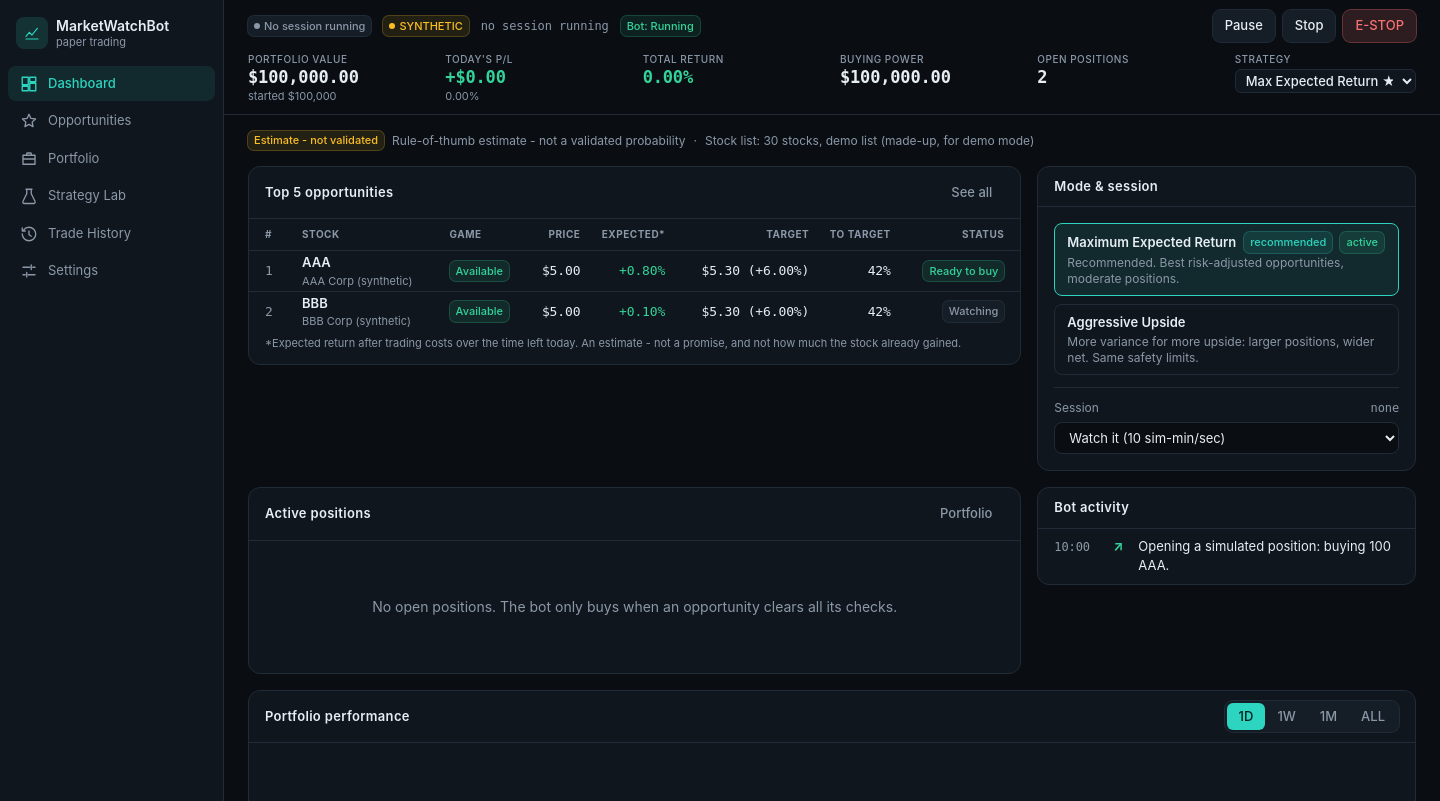
Test: dashboard › switches mode after confirmation and tells you what happens to open positions
The width and height of the screenshot is (1440, 801).
Click the radio button labelled "Aggressive Upside". click: point(1227, 340)
box: [1054,304,1399,375]
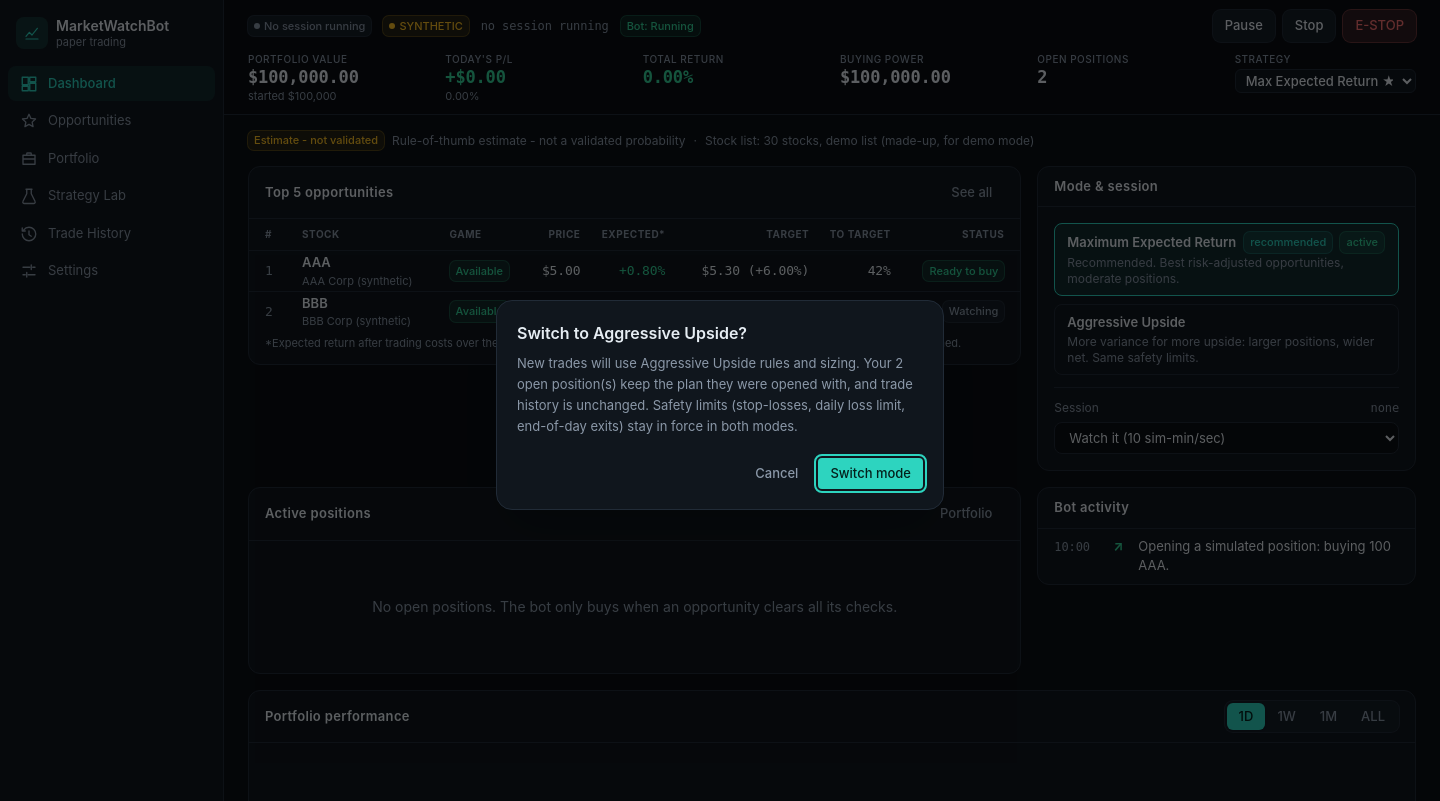
Expected: the text "2 open position(s) keep the plan they were opened with" is shown, [517,355,913,434]
Click the button "Switch mode". click: point(871, 473)
box: [818,458,923,489]
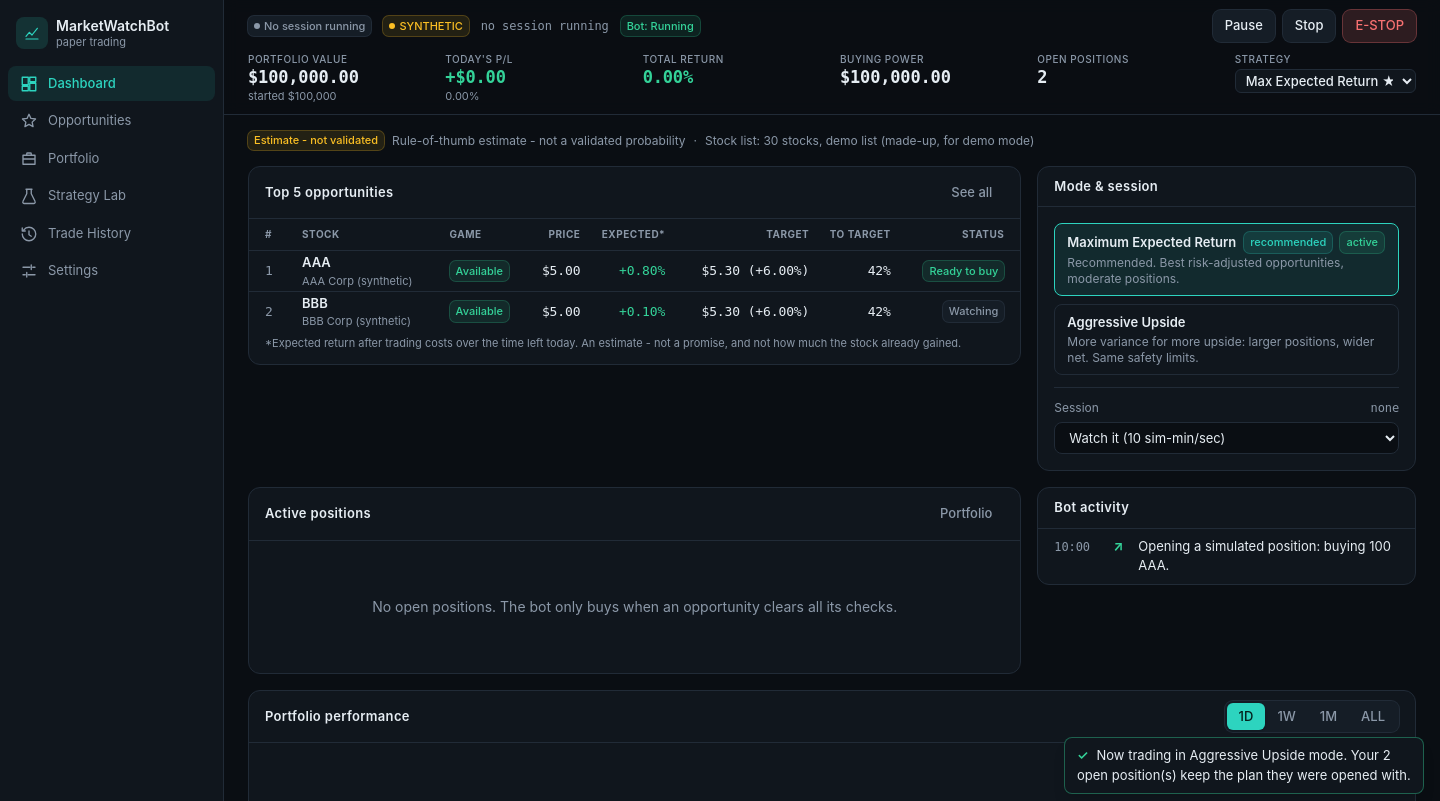
Expected: the text "Now trading in Aggressive Upside mode" is shown, [1077,747,1411,782]
